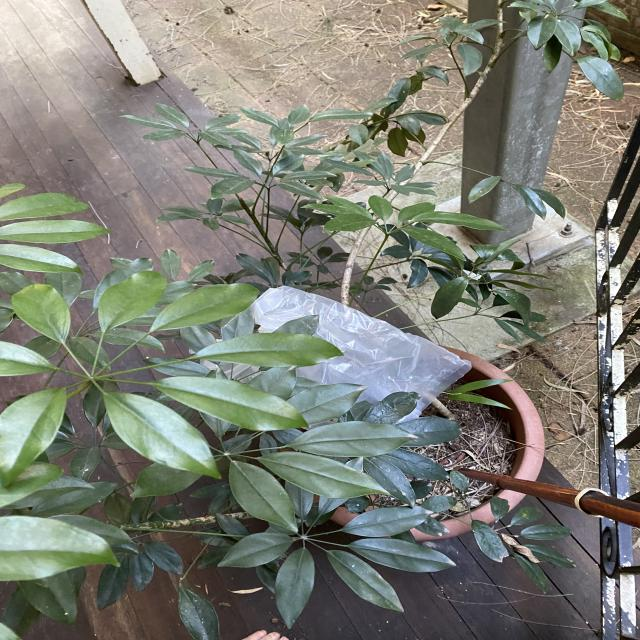cloth: (193, 282, 476, 443)
